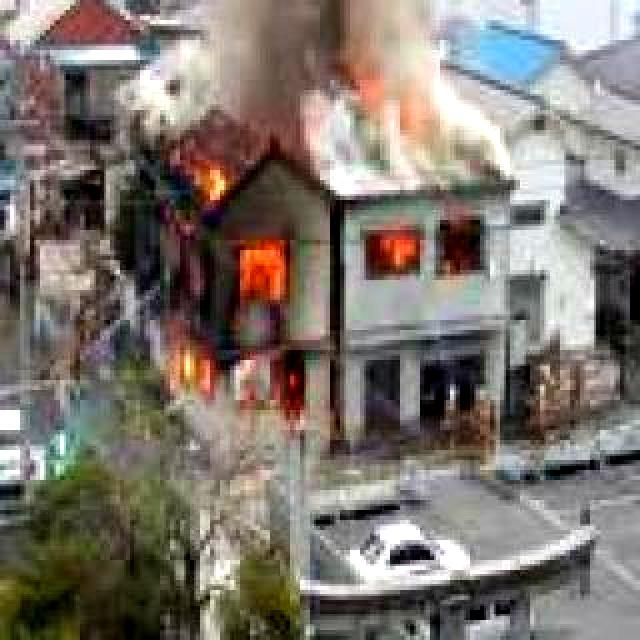fire: (150, 162, 300, 424), (352, 220, 432, 268)
